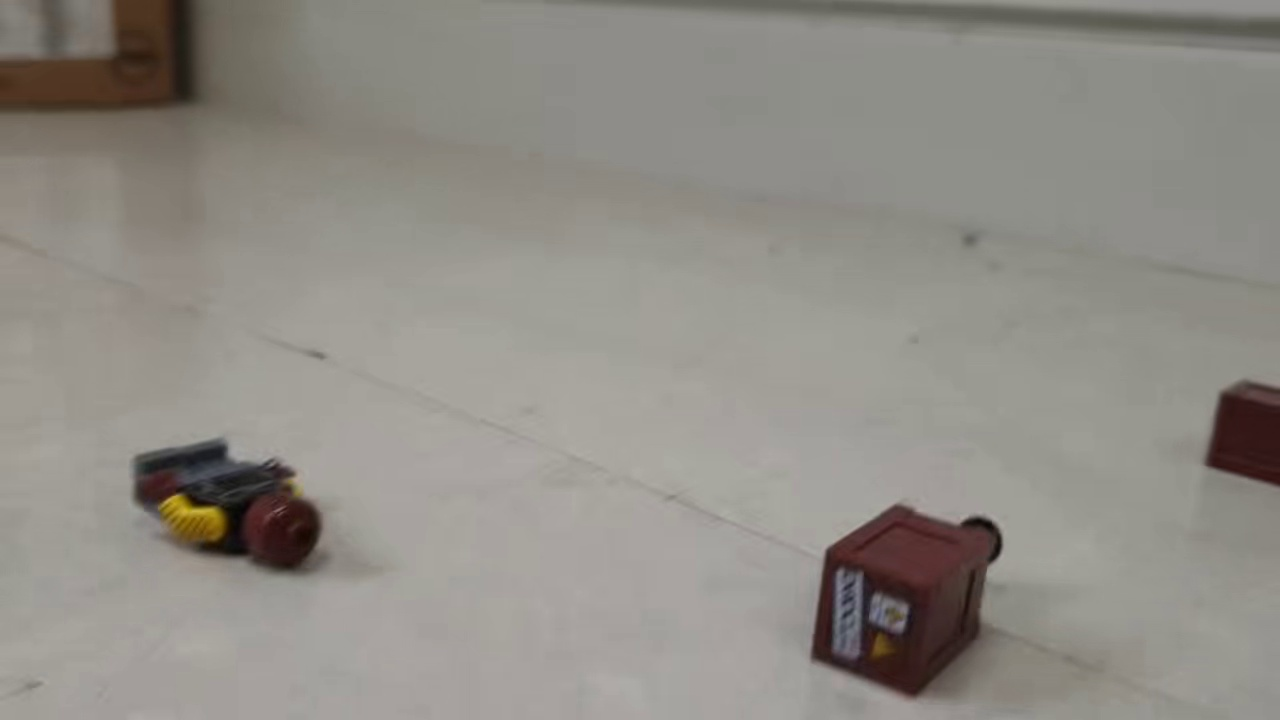box: (809, 500, 1006, 698), (1202, 377, 1280, 493)
people: (131, 432, 326, 575)
